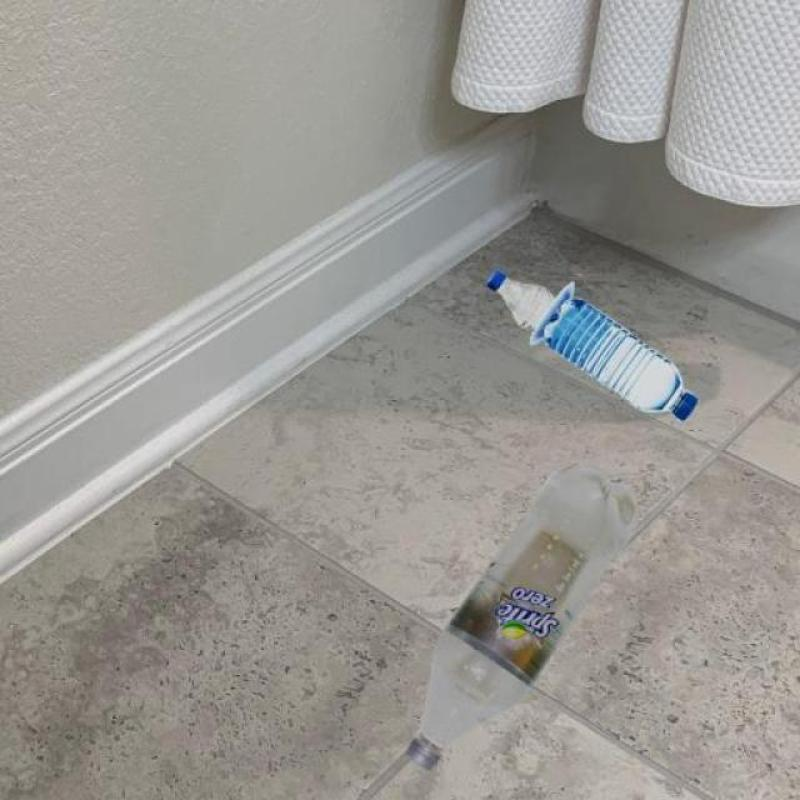botella: (407, 462, 638, 770), (541, 296, 697, 419), (487, 269, 555, 333)
